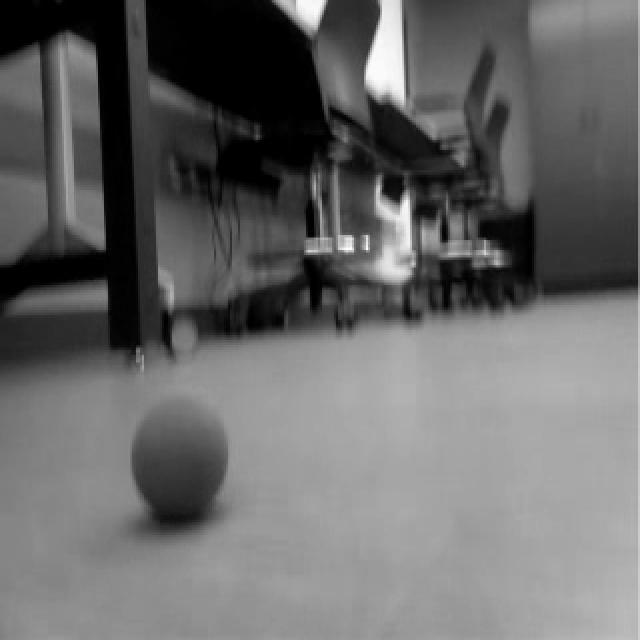ping-pong-ball: (130, 386, 228, 520)
